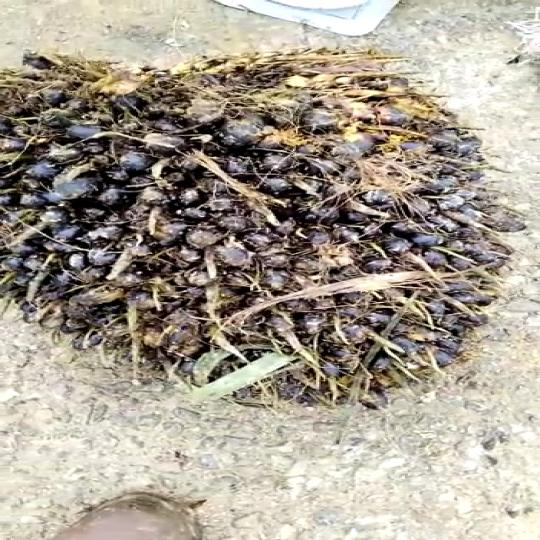mentah: (0, 32, 534, 404)
